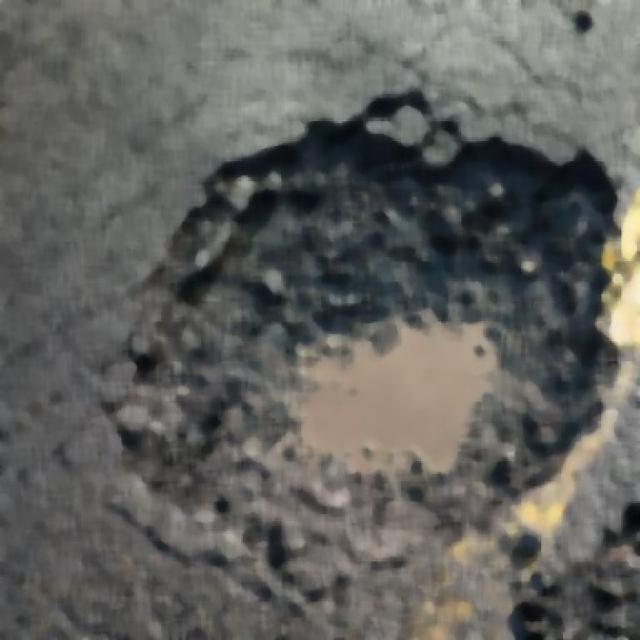Pothole: (191, 154, 595, 503)
